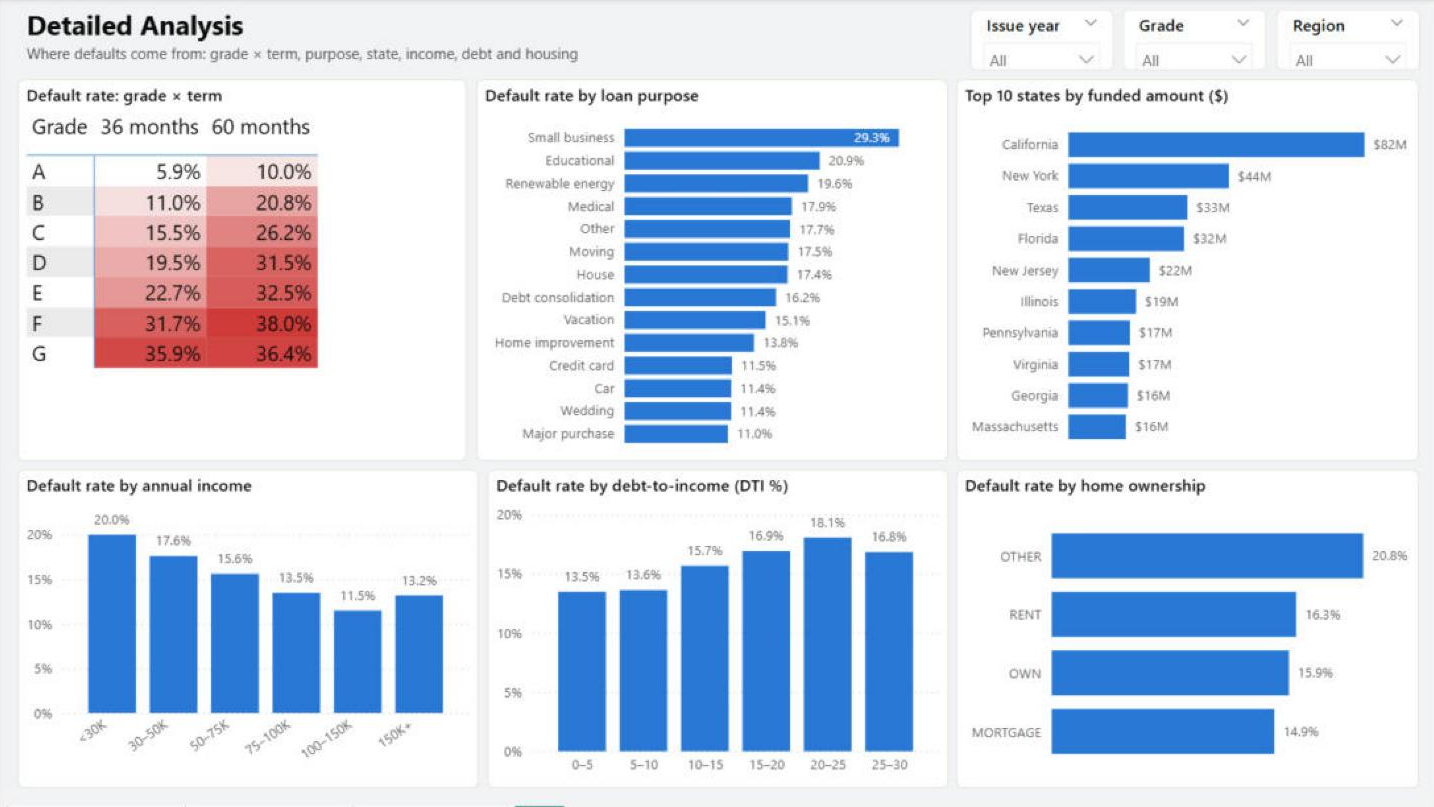

Layout of this report page (visuals, bound fields, positions):
{"tool":"powerbi","page":{"name":"Detailed Analysis","canvas":[1280,720],"ordinal":1},"visuals":[{"type":"textbox","box":[16,8,840,56],"z":1000},{"type":"slicer","fields":{"Values":["Date.Year"]},"box":[864,10,128,54],"z":2000},{"type":"slicer","fields":{"Values":["loans.grade"]},"box":[1000,10,128,54],"z":3000},{"type":"slicer","fields":{"Values":["dim_state.region"]},"box":[1136,10,128,54],"z":4000},{"type":"pivotTable","title":"Default rate: grade × term","fields":{"Columns":["loans.term_label"],"Rows":["loans.grade"],"Values":["_Measures.Default Rate %"]},"box":[16,72,400,340],"z":5000},{"type":"clusteredBarChart","title":"Default rate by loan purpose","fields":{"Category":["loans.purpose"],"Y":["_Measures.Default Rate %"]},"box":[424,72,420,340],"z":6000},{"type":"clusteredBarChart","title":"Top 10 states by funded amount ($)","fields":{"Category":["dim_state.state_name"],"Y":["_Measures.Funded (Top 10 States)"]},"box":[852,72,412,340],"z":7000},{"type":"clusteredColumnChart","title":"Default rate by annual income","fields":{"Category":["loans.income_band"],"Y":["_Measures.Default Rate % (known income)"]},"box":[16,420,410,284],"z":8000},{"type":"clusteredColumnChart","title":"Default rate by debt-to-income (DTI %)","fields":{"Category":["loans.dti_band"],"Y":["_Measures.Default Rate %"]},"box":[434,420,410,284],"z":9000},{"type":"clusteredBarChart","title":"Default rate by home ownership","fields":{"Category":["loans.home_ownership"],"Y":["_Measures.Default Rate %"]},"box":[852,420,412,284],"z":10000}]}

Visuals, with their boxes in screenshot pixels (x1, y1, x2, y2), scaled from the page's 1280x720 canvas onto the 1434x807 screenshot:
textbox: (x1=18, y1=9, x2=959, y2=72)
slicer - Date.Year: (x1=968, y1=11, x2=1111, y2=72)
slicer - loans.grade: (x1=1120, y1=11, x2=1264, y2=72)
slicer - dim_state.region: (x1=1273, y1=11, x2=1416, y2=72)
"Default rate: grade × term" pivotTable: (x1=18, y1=81, x2=466, y2=462)
"Default rate by loan purpose" clusteredBarChart: (x1=475, y1=81, x2=946, y2=462)
"Top 10 states by funded amount ($)" clusteredBarChart: (x1=955, y1=81, x2=1416, y2=462)
"Default rate by annual income" clusteredColumnChart: (x1=18, y1=471, x2=477, y2=789)
"Default rate by debt-to-income (DTI %)" clusteredColumnChart: (x1=486, y1=471, x2=946, y2=789)
"Default rate by home ownership" clusteredBarChart: (x1=955, y1=471, x2=1416, y2=789)
